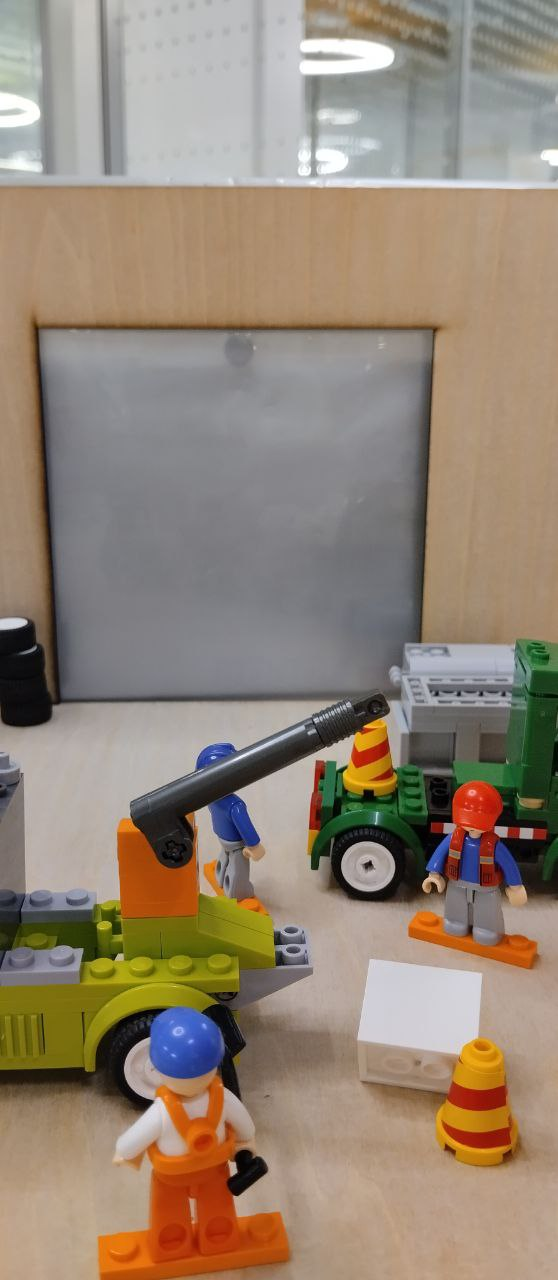Cone: (435, 1033, 526, 1171), (348, 718, 400, 798)
Crane: (0, 690, 389, 1106)
Object white: (350, 952, 481, 1087)
Truck: (306, 636, 558, 903)
